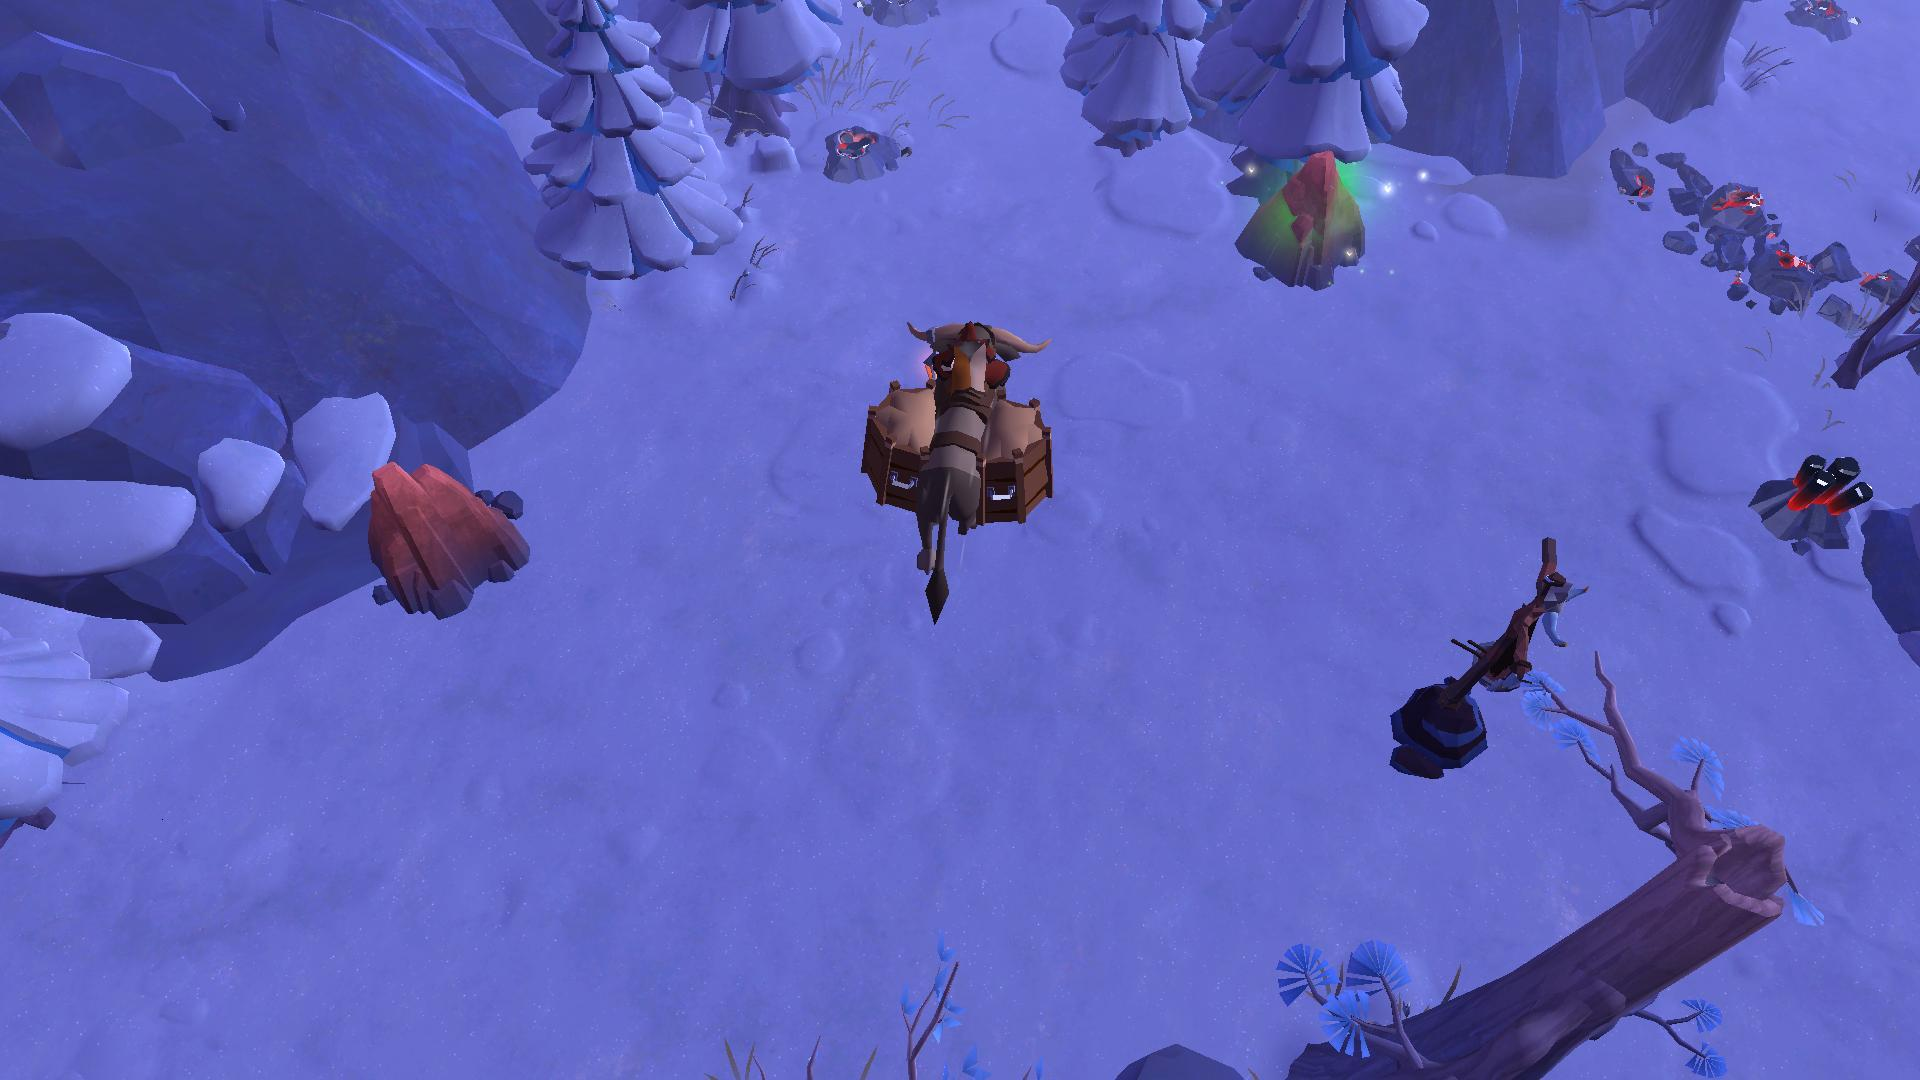ore_t5: (1782, 450, 1873, 517)
rock_t5: (359, 458, 537, 621), (1234, 136, 1362, 293)
